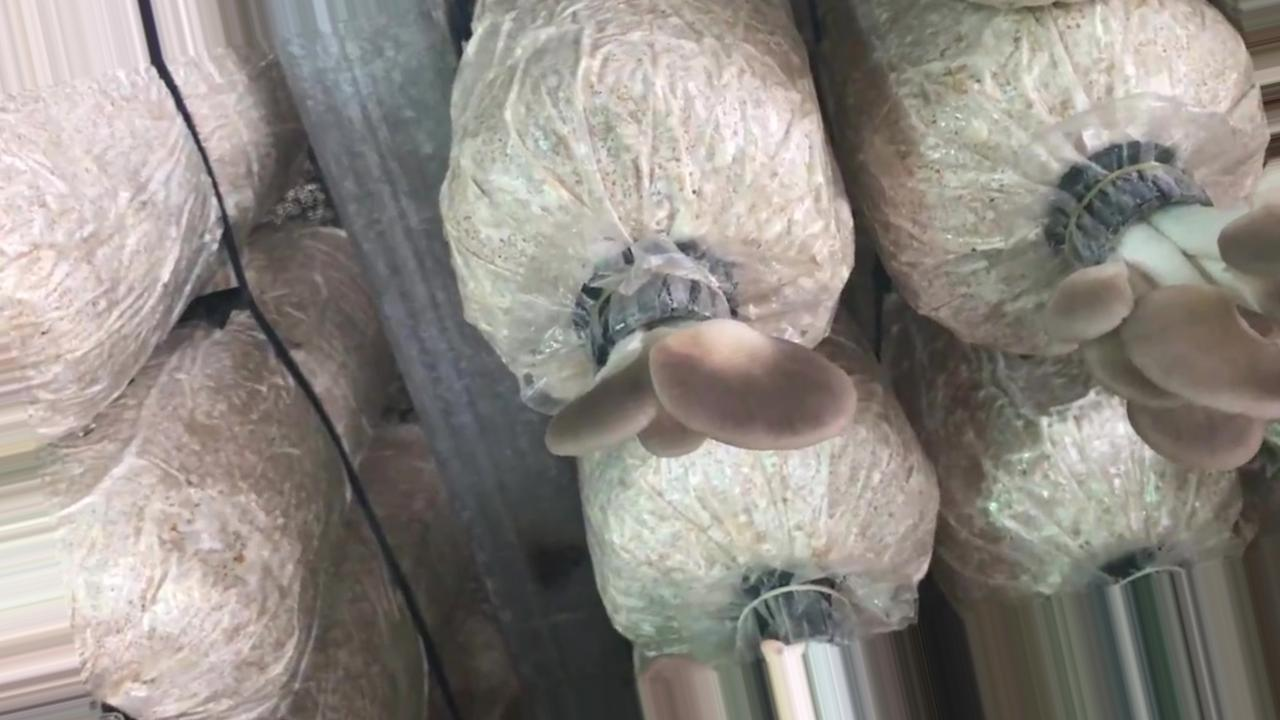nam: (1045, 148, 1280, 473), (542, 245, 856, 459)
